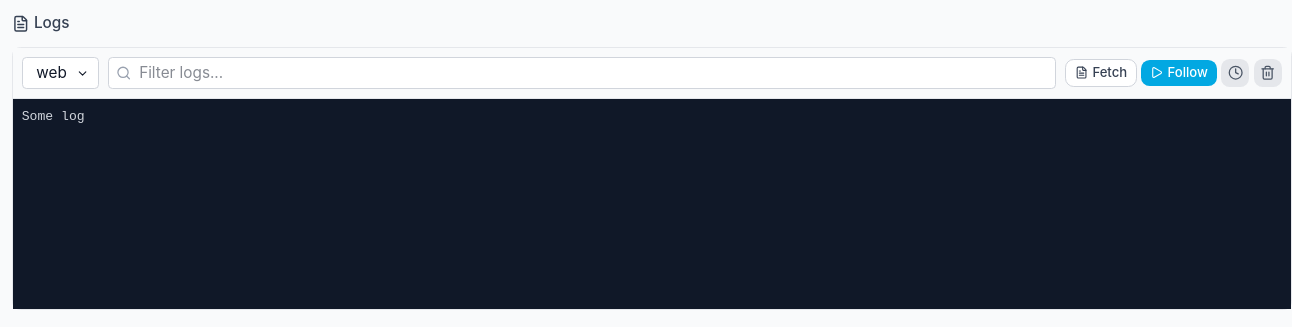
it: LogsSection › when project is running › should clear logs when clear button is clicked
Expected: the text "Some log" is shown, 22,109 -> 85,124
Click the button titled "Clear logs". click: x=1268, y=73
box: 1254,59 -> 1282,87
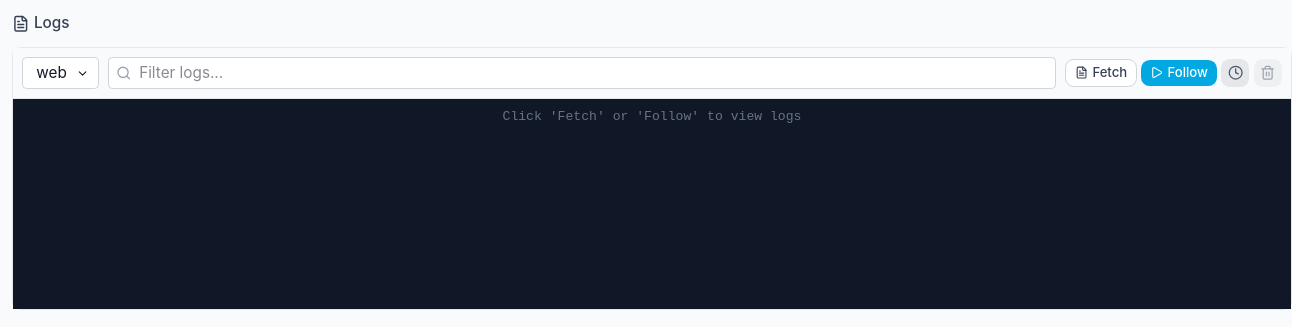
Result: the text "Some log" is gone
Result: the text "Click 'Fetch' or 'Follow' to view logs" is shown at 502,109 -> 802,124
